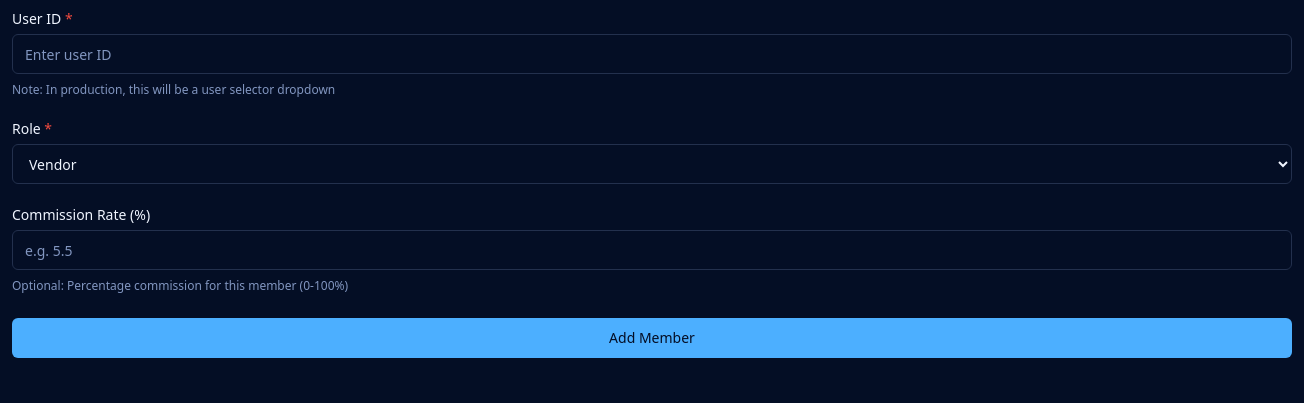
Test case: MemberForm › shows validation error when user_id is empty
Click the button "Add Member": (652, 338) [12,318,1292,358]
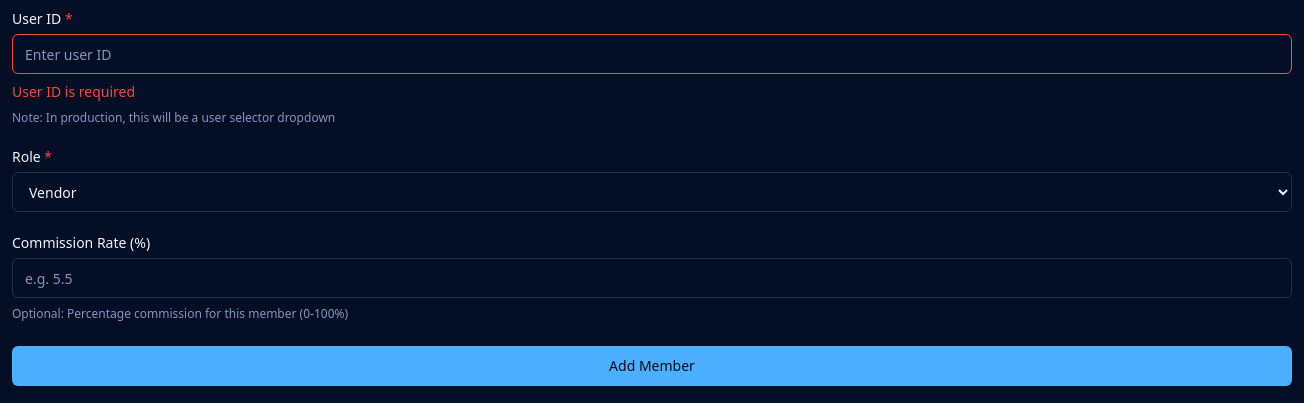
Now the text "User ID is required" is shown, box [12,82,135,101]
